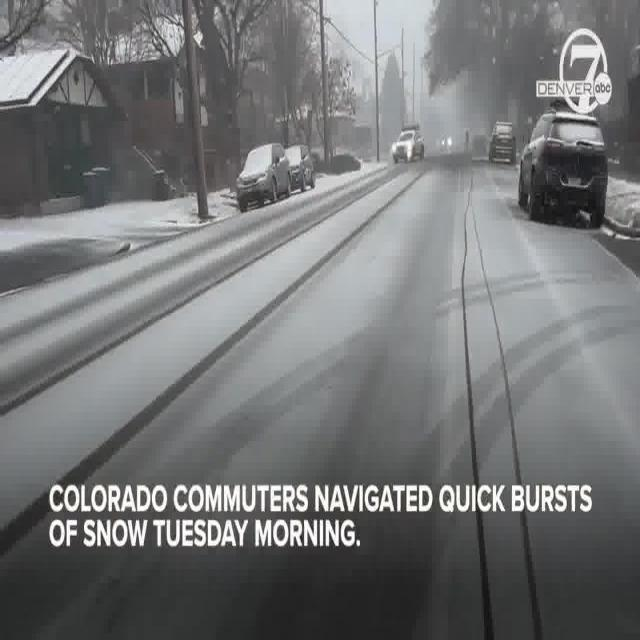Car: (519, 112, 609, 228), (237, 136, 292, 209), (391, 121, 427, 163), (488, 117, 516, 165)
